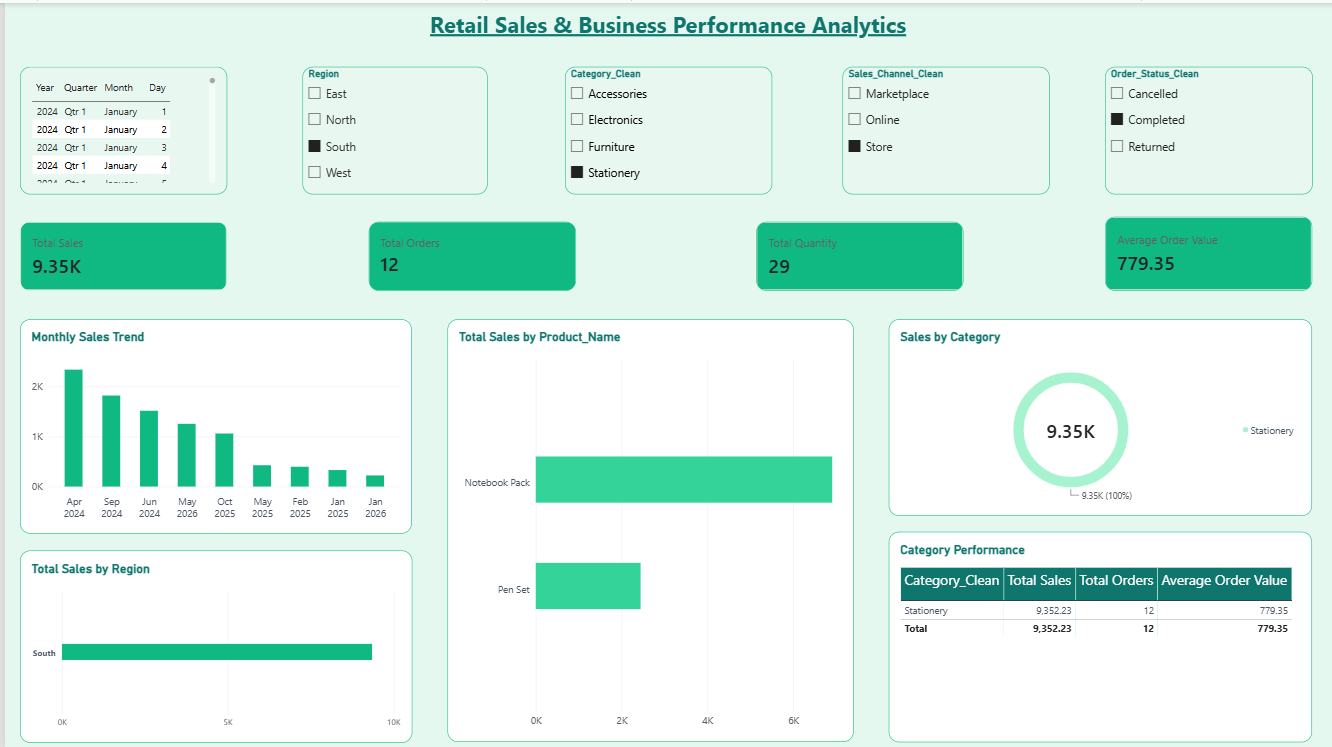

The dashboard page shown, as its layout file describes it:
{"tool":"powerbi","page":{"name":"Executive Overview","canvas":[1920,1080],"ordinal":0},"visuals":[{"type":"textbox","box":[590,8.8,740,50],"z":0},{"type":"tableEx","fields":{"Values":["DateTable.Date.Variation.Date Hierarchy.Year","DateTable.Date.Variation.Date Hierarchy.Quarter","DateTable.Date.Variation.Date Hierarchy.Month","DateTable.Date.Variation.Date Hierarchy.Day"]},"box":[22.5,92.5,300,185],"z":1000},{"type":"slicer","fields":{"Values":["Clean_data.Category_Clean"]},"box":[810,92.5,300,185],"z":2000},{"type":"slicer","fields":{"Values":["Clean_data.Sales_Channel_Clean"]},"box":[1212.5,92.5,300,185],"z":3000},{"type":"slicer","fields":{"Values":["Clean_data.Order_Status_Clean"]},"box":[1592.5,92.3,300.4,184.6],"z":4000},{"type":"cardVisual","fields":{"Data":["Clean_data.Total Sales"]},"box":[22.5,317.5,300,100],"z":5000},{"type":"cardVisual","fields":{"Data":["Clean_data.Total Orders"]},"box":[527.5,317.5,300,100],"z":6000},{"type":"cardVisual","fields":{"Data":["Clean_data.Total Quantity"]},"box":[1087.5,317.5,300,100],"z":7000},{"type":"cardVisual","fields":{"Data":["Clean_data.Average Order Value"]},"box":[1592.5,310,300,107.5],"z":8000},{"type":"clusteredColumnChart","title":"Monthly Sales Trend","fields":{"Category":["DateTable.Month Year"],"Y":["Clean_data.Total Sales"]},"box":[22.2,457.4,567.5,310],"z":9000},{"type":"donutChart","title":"Sales by Category","fields":{"Category":["Clean_data.Category_Clean"],"Y":["Clean_data.Total Sales"]},"box":[1280,457.5,612.5,285],"z":10000},{"type":"barChart","fields":{"Category":["Clean_data.Region"],"Y":["Clean_data.Total Sales"]},"box":[22.2,792.6,568,278],"z":11000},{"type":"barChart","fields":{"Category":["Clean_data.Product_Name"],"Y":["Clean_data.Total Sales"]},"box":[640,457.8,587.8,612.2],"z":12000},{"type":"tableEx","title":"Category Performance","fields":{"Values":["Clean_data.Category_Clean","Clean_data.Total Sales","Clean_data.Total Orders","Clean_data.Average Order Value"]},"box":[1280,765,612.5,305],"z":13000},{"type":"slicer","fields":{"Values":["Clean_data.Region"]},"box":[430,92.5,268,185],"z":14000}]}

Visuals, with their boxes in screenshot pixels (x1, y1, x2, y2), scaled from the page's 1920x1080 canvas onto the 1332x747 screenshot:
textbox: [x1=409, y1=6, x2=923, y2=41]
tableEx - DateTable.Date.Variation.Date Hierarchy.Year x DateTable.Date.Variation.Date Hierarchy.Quarter: [x1=16, y1=64, x2=224, y2=192]
slicer - Clean_data.Category_Clean: [x1=562, y1=64, x2=770, y2=192]
slicer - Clean_data.Sales_Channel_Clean: [x1=841, y1=64, x2=1049, y2=192]
slicer - Clean_data.Order_Status_Clean: [x1=1105, y1=64, x2=1313, y2=192]
cardVisual - Clean_data.Total Sales: [x1=16, y1=220, x2=224, y2=289]
cardVisual - Clean_data.Total Orders: [x1=366, y1=220, x2=574, y2=289]
cardVisual - Clean_data.Total Quantity: [x1=754, y1=220, x2=963, y2=289]
cardVisual - Clean_data.Average Order Value: [x1=1105, y1=214, x2=1313, y2=289]
"Monthly Sales Trend" clusteredColumnChart: [x1=15, y1=316, x2=409, y2=531]
"Sales by Category" donutChart: [x1=888, y1=316, x2=1313, y2=514]
barChart - Clean_data.Region x Clean_data.Total Sales: [x1=15, y1=548, x2=409, y2=740]
barChart - Clean_data.Product_Name x Clean_data.Total Sales: [x1=444, y1=317, x2=852, y2=740]
"Category Performance" tableEx: [x1=888, y1=529, x2=1313, y2=740]
slicer - Clean_data.Region: [x1=298, y1=64, x2=484, y2=192]
